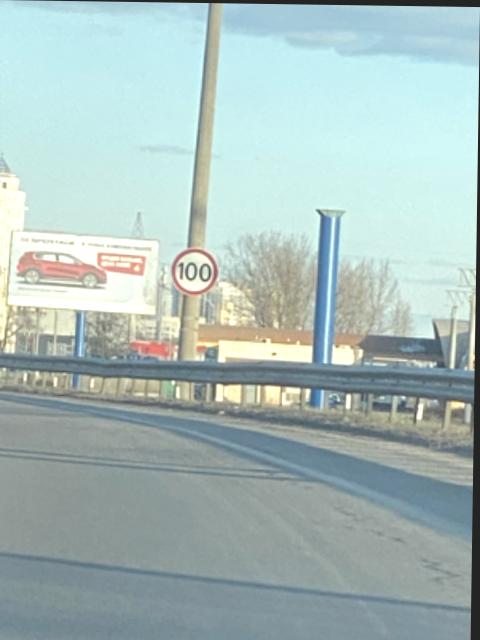limit100: (167, 242, 219, 295)
